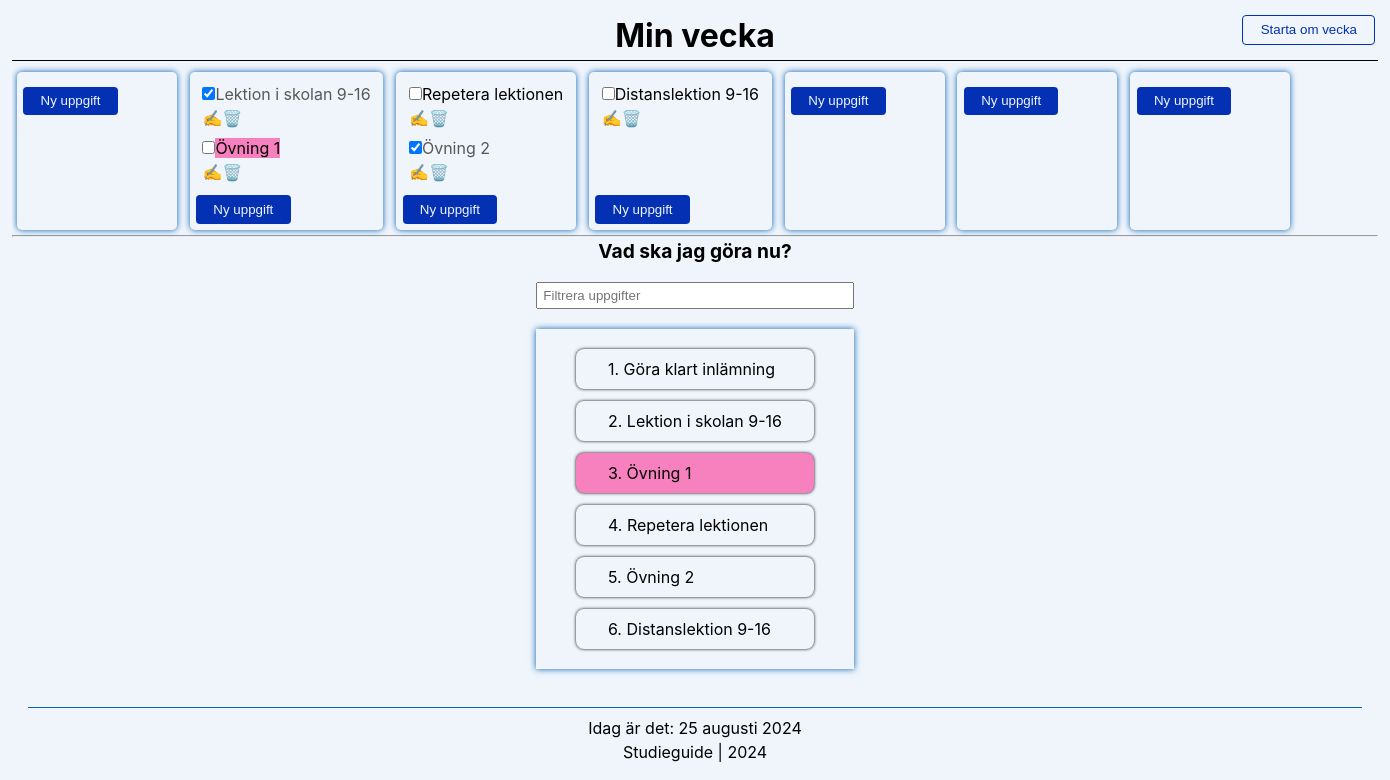
Test: Edit function › Works to edit text and use enter
Click the 4th text with test id "edit-button": (212, 172) left=202, top=160, right=222, bottom=184
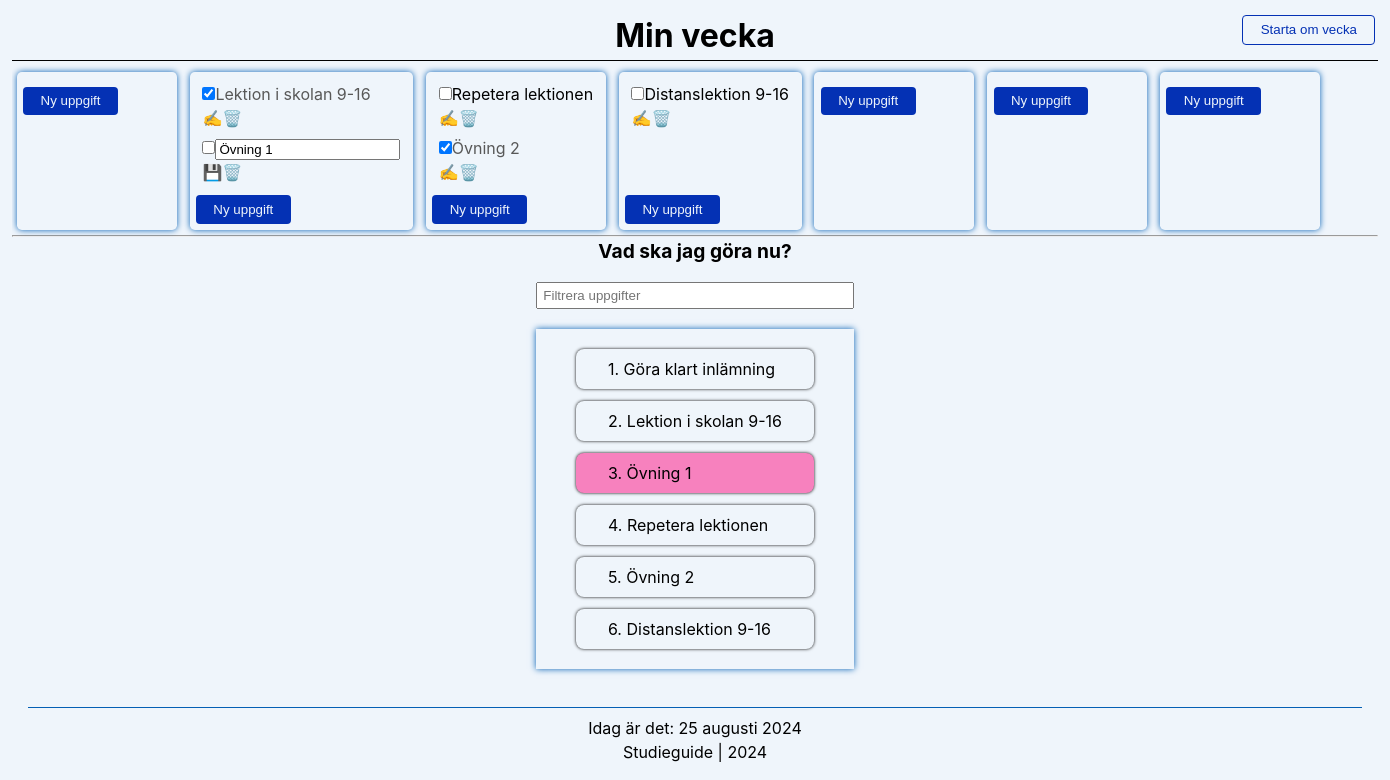
Replace the text in the field with test id "edit-input" with "tenta 08-13": (308, 150) left=215, top=139, right=400, bottom=160
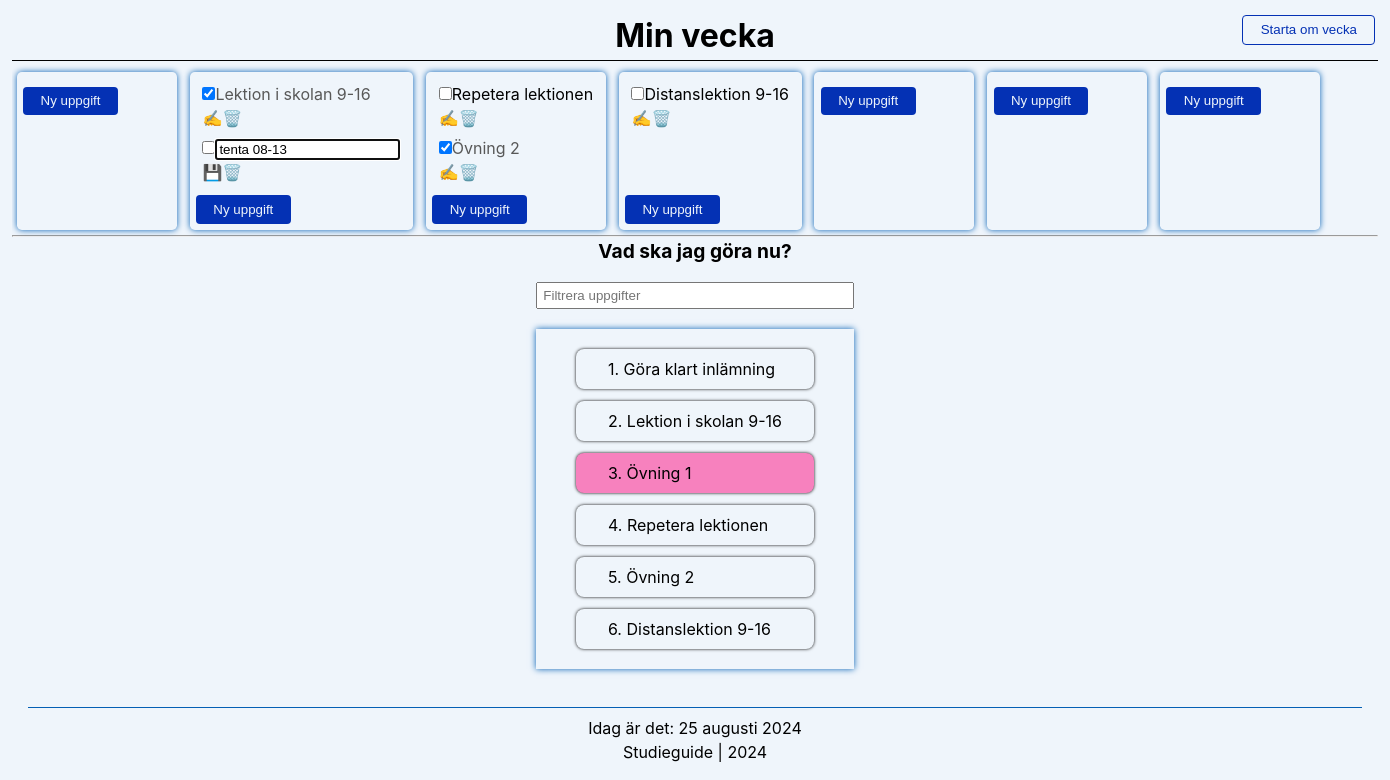
Press Enter in the field with test id "edit-input", box left=215, top=139, right=400, bottom=160
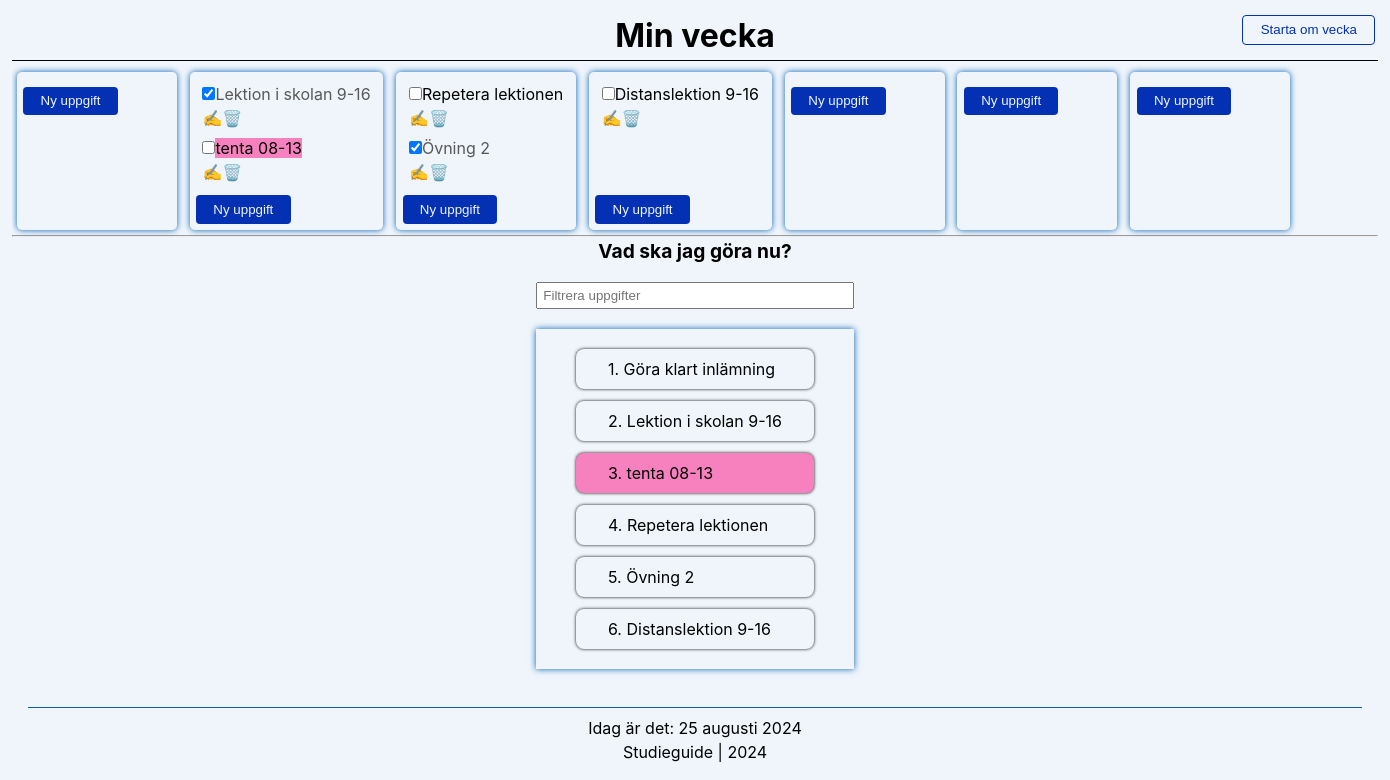
Expected: the text "tenta 08-13" is shown, left=215, top=138, right=302, bottom=158
